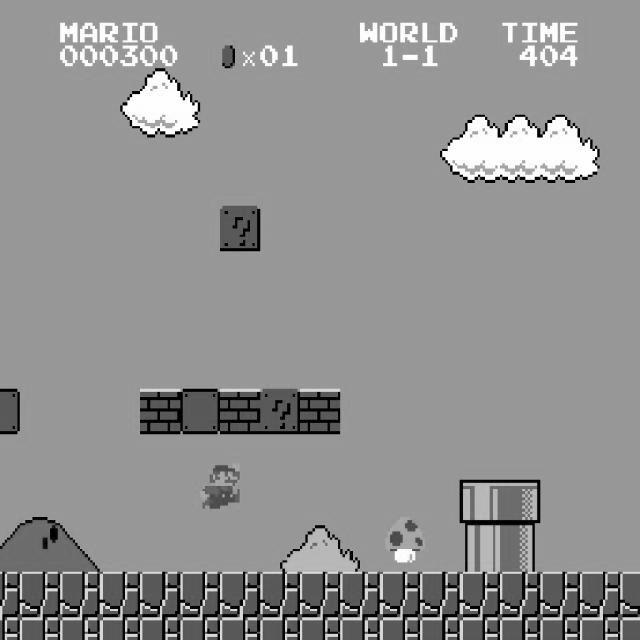1- brick_block: (140, 388, 180, 434), (220, 388, 260, 434), (300, 388, 340, 434)
11- little_mario: (197, 461, 240, 508)
12- mushroom: (382, 514, 426, 563)
13- mystery_block: (260, 388, 300, 434), (220, 206, 260, 251)
14- pipe: (460, 526, 500, 572), (500, 526, 540, 572)
15- pipe_head: (460, 480, 500, 526), (500, 480, 540, 526)
17- undestructible_block: (20, 572, 60, 618), (60, 572, 100, 618), (100, 572, 140, 618), (140, 572, 180, 618), (180, 572, 220, 618), (220, 572, 260, 618), (260, 572, 300, 618), (300, 572, 340, 618), (340, 572, 380, 618), (380, 572, 420, 618), (420, 572, 460, 618), (460, 572, 500, 618), (500, 572, 540, 618), (540, 572, 580, 618), (580, 572, 620, 618), (0, 572, 20, 618), (620, 572, 640, 618), (20, 617, 60, 640), (60, 617, 100, 640), (100, 617, 140, 640), (140, 617, 180, 640), (180, 617, 220, 640), (220, 617, 260, 640), (260, 617, 300, 640), (300, 617, 340, 640), (340, 617, 380, 640), (380, 617, 420, 640), (420, 617, 460, 640), (460, 617, 500, 640), (500, 617, 540, 640), (540, 617, 580, 640), (580, 617, 620, 640), (0, 617, 20, 640), (620, 617, 640, 640)
3- empty_block: (180, 388, 220, 434), (0, 388, 20, 434)
